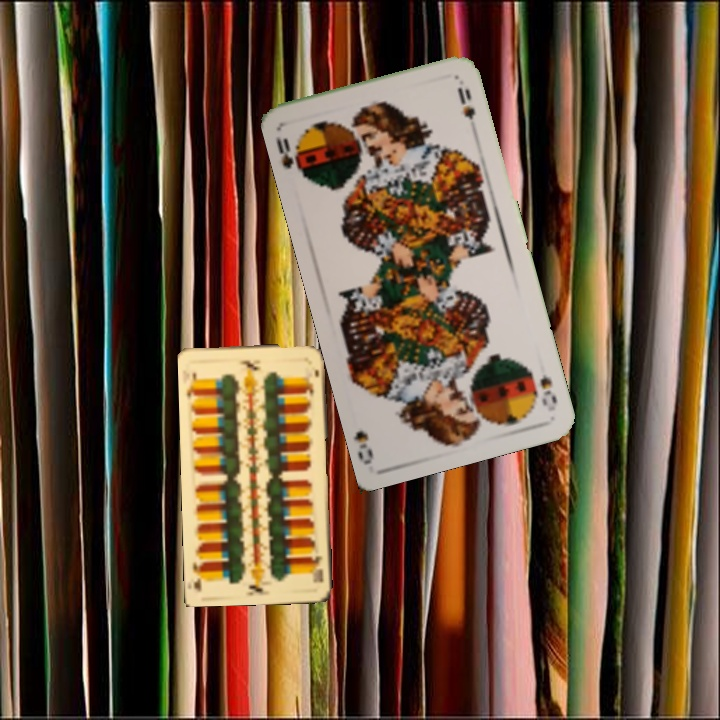E10: (183, 368, 201, 402), (307, 553, 325, 586)
SO: (272, 132, 309, 181), (536, 370, 560, 408)
